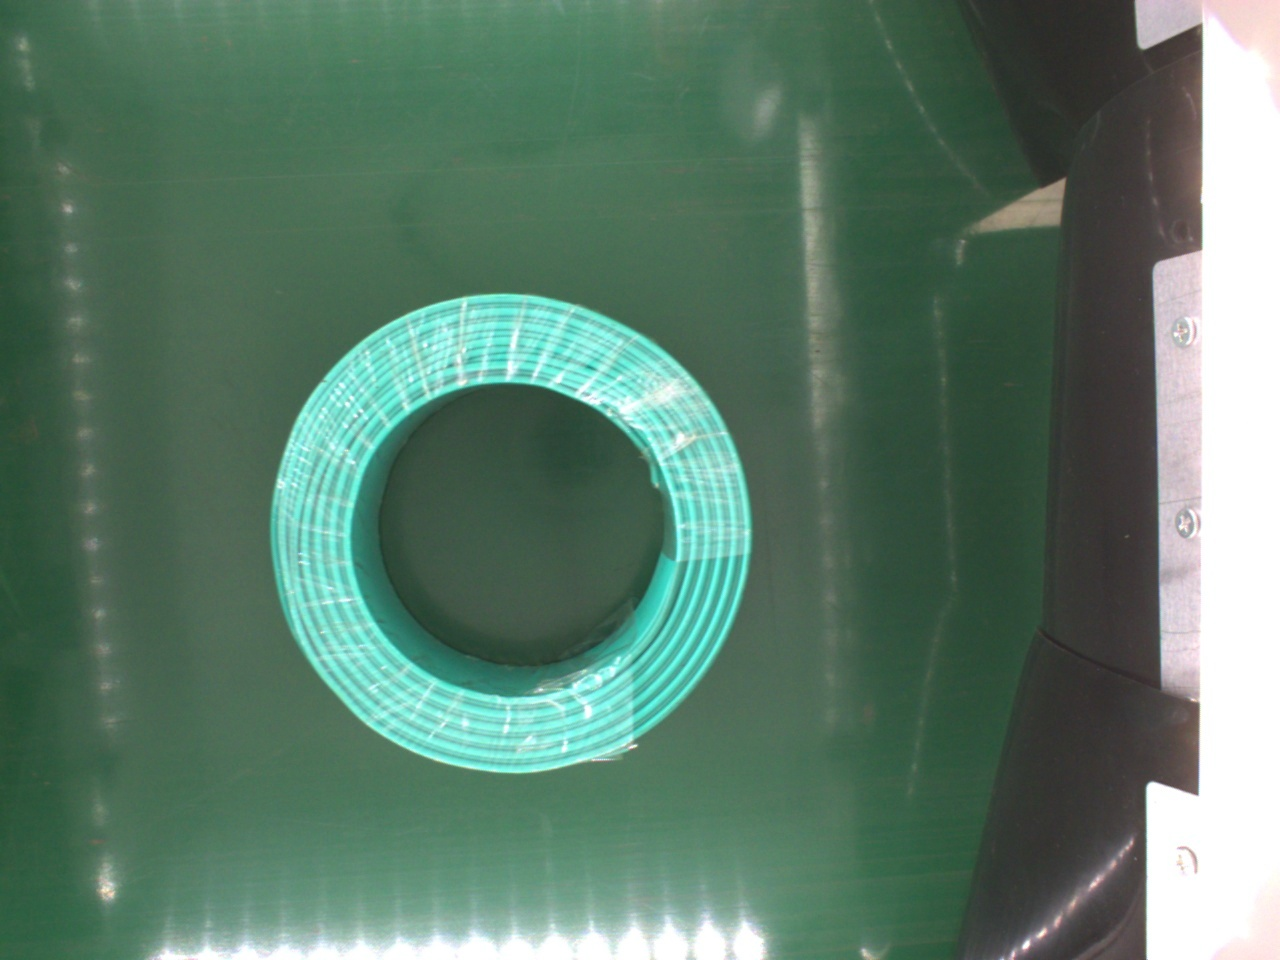green: (263, 293, 753, 779)
